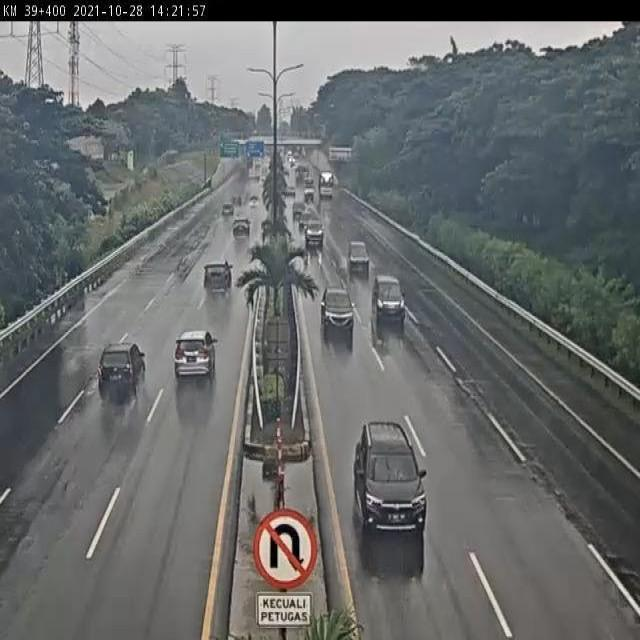car: (353, 422, 428, 534), (96, 341, 147, 400), (173, 331, 217, 381), (371, 274, 407, 329), (319, 284, 356, 336), (203, 259, 233, 296), (346, 240, 371, 272), (303, 216, 327, 247), (229, 220, 249, 244), (220, 200, 237, 220), (292, 196, 306, 219)
